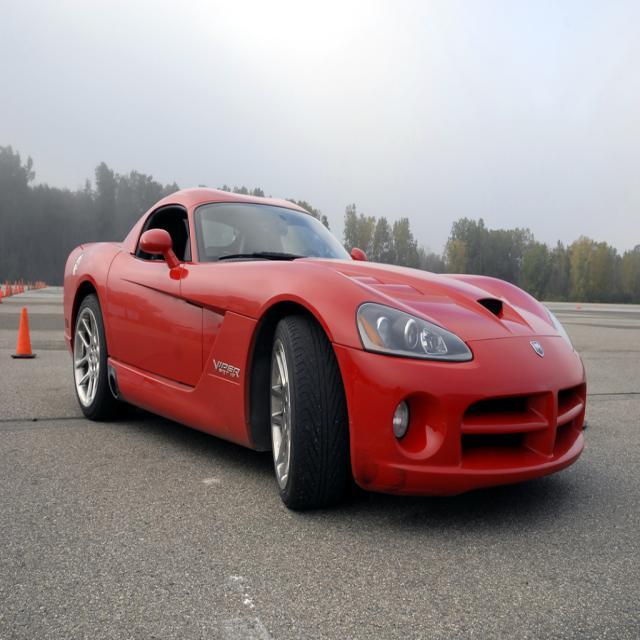car: (65, 182, 585, 509)
